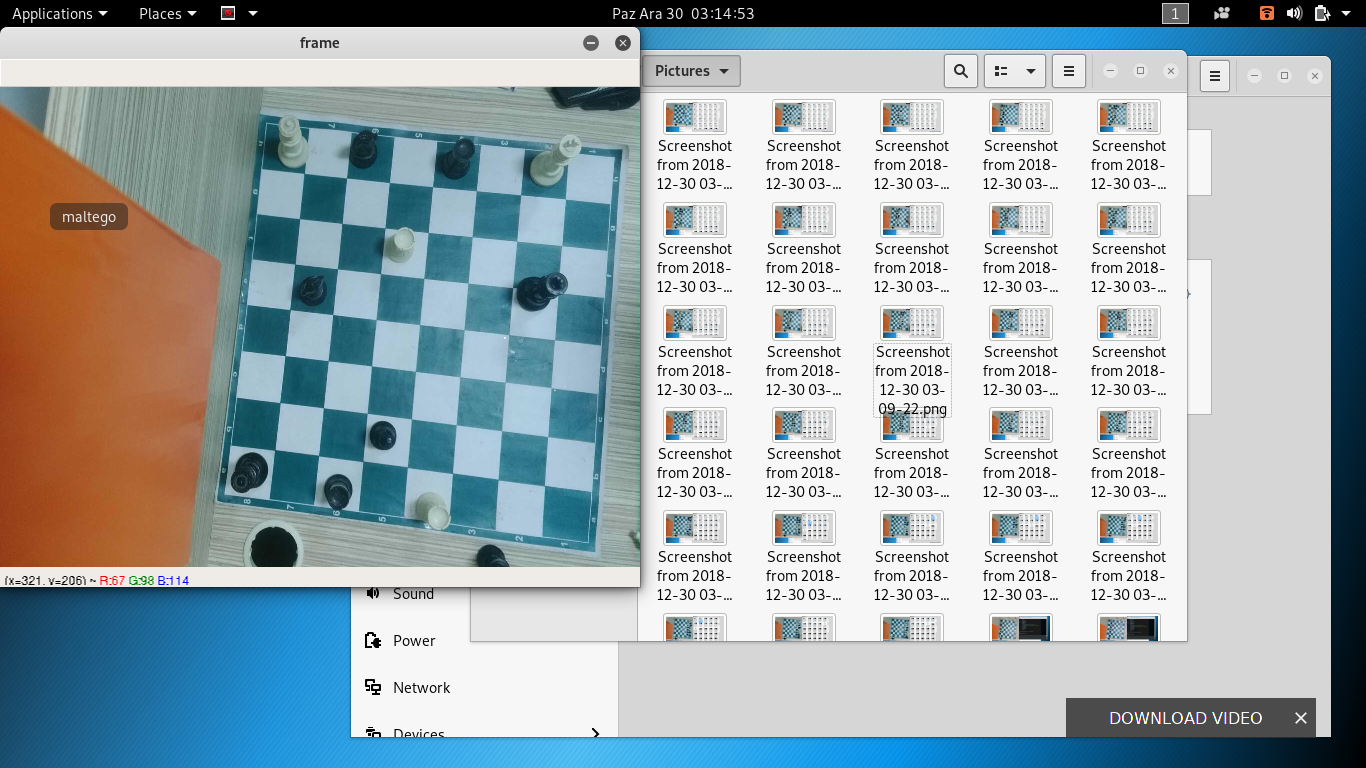BeyazSah: (527, 133, 581, 183)
BeyazVezir: (271, 115, 308, 171)
SiyahSah: (518, 273, 568, 312)
SiyahVezir: (231, 448, 270, 492)
